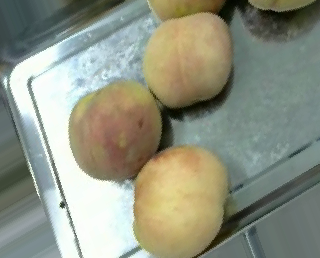Peach: (130, 143, 226, 256), (69, 79, 163, 179), (144, 11, 233, 107)
